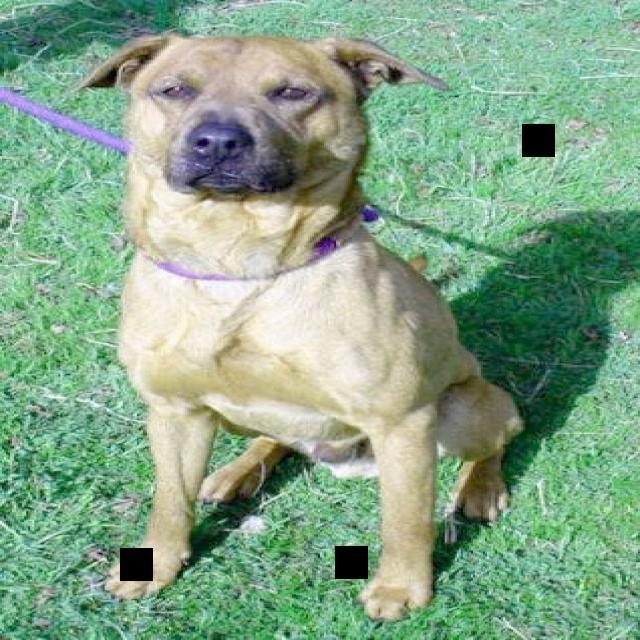adult_dog: (75, 29, 524, 620)
